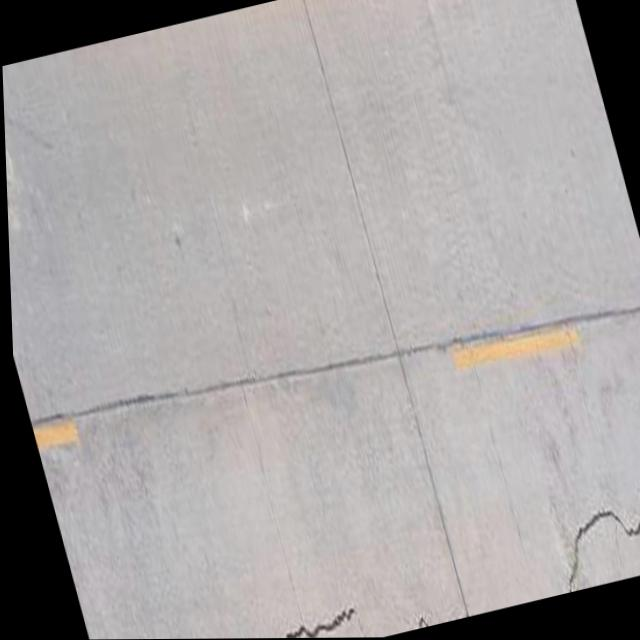Crack: (80, 569, 355, 640), (516, 470, 640, 598)
